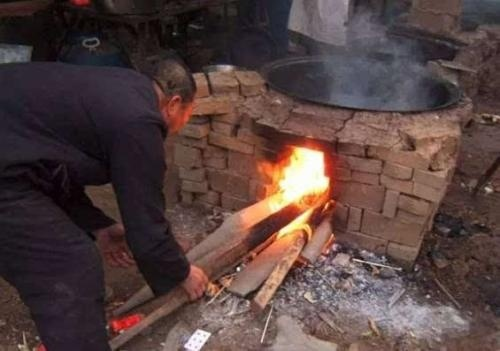fire: (260, 142, 332, 208)
